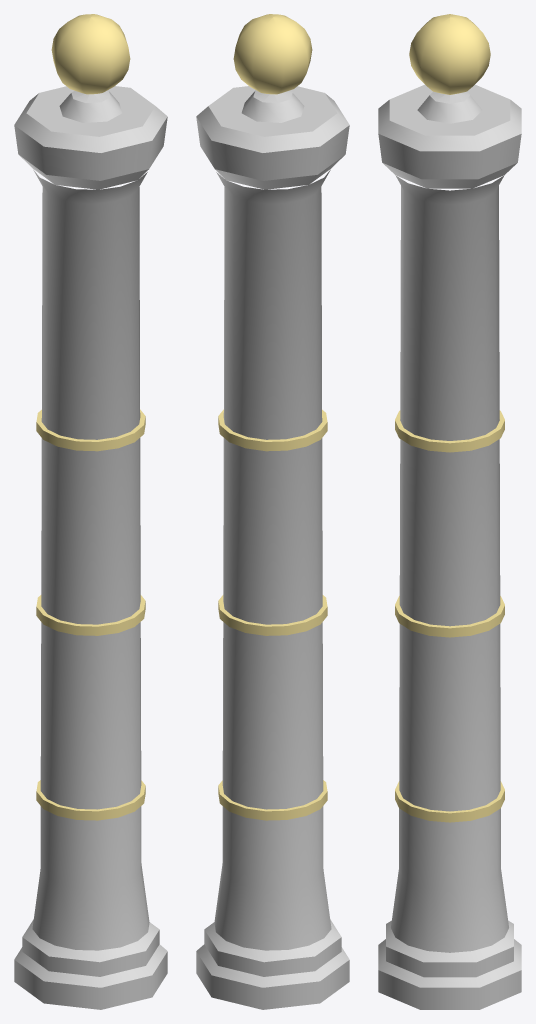
Rendered from GoldPillar.glb.
3 views of the same model, side by side, from view 1: azimuth 30°, elevation 25°; view 2: azimuth 150°, elevation 25°; view 3: azimuth 270°, elevation 25° (orthographic).
Parts seen in each view (by area): view 1: Body, Glow; view 2: Body, Glow; view 3: Body, Glow.
Boxes of the visible parts, box(x1,y1,x2,y2) form: Body: box(14, 86, 167, 1009); Glow: box(36, 14, 145, 820); Body: box(196, 86, 349, 1009); Glow: box(218, 14, 327, 820); Body: box(378, 84, 521, 1009); Glow: box(395, 14, 504, 822).
Size of the model in its own units: 7.02 by 52 by 7.02.
